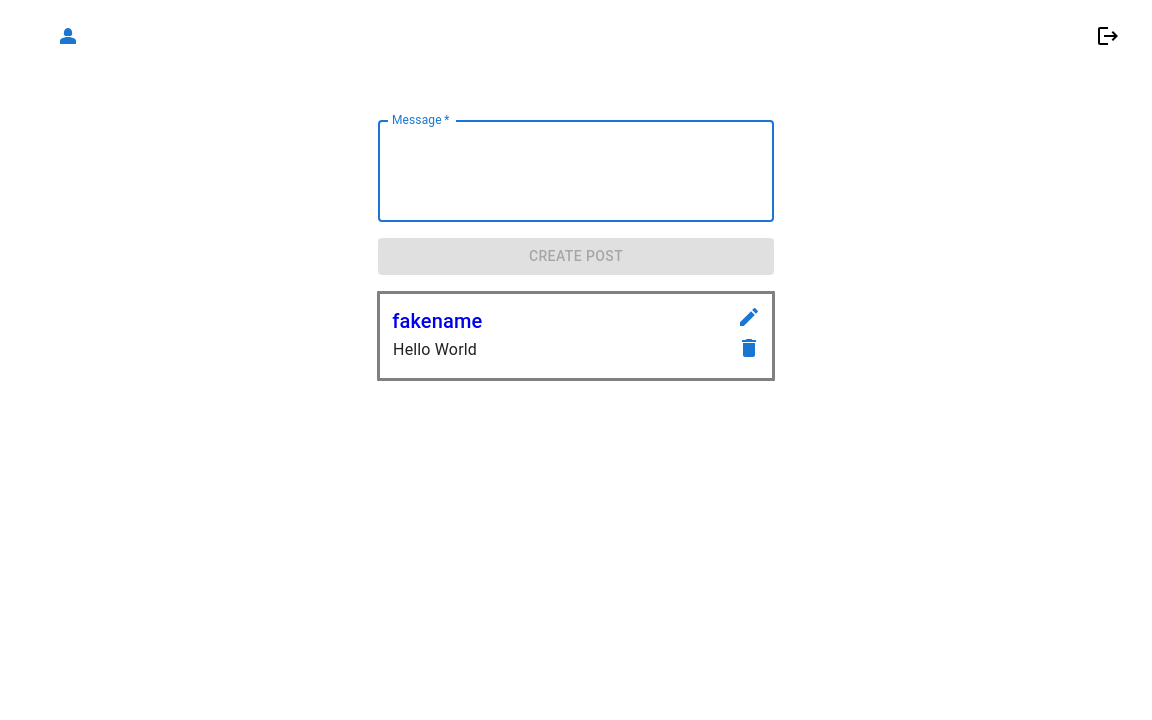
Test case: delete post modal › should display an error if deleting a post returns a rejected promise
What coordinates should you click on to do the following:
click the link named "delete-icon"
I would click on:
 (749, 354)
Its box is top-left (737, 344), bottom-right (761, 364).
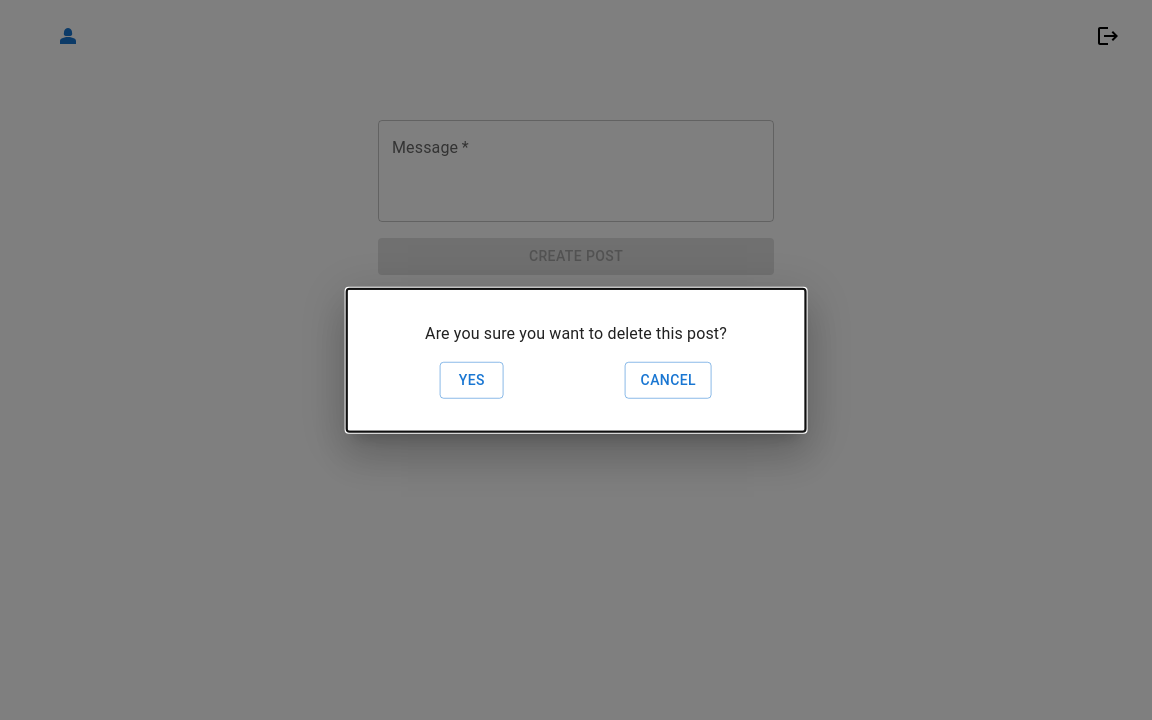
What coordinates should you click on to do the following:
click the button "Yes"
I would click on:
 (472, 380)
Its box is top-left (440, 362), bottom-right (504, 398).
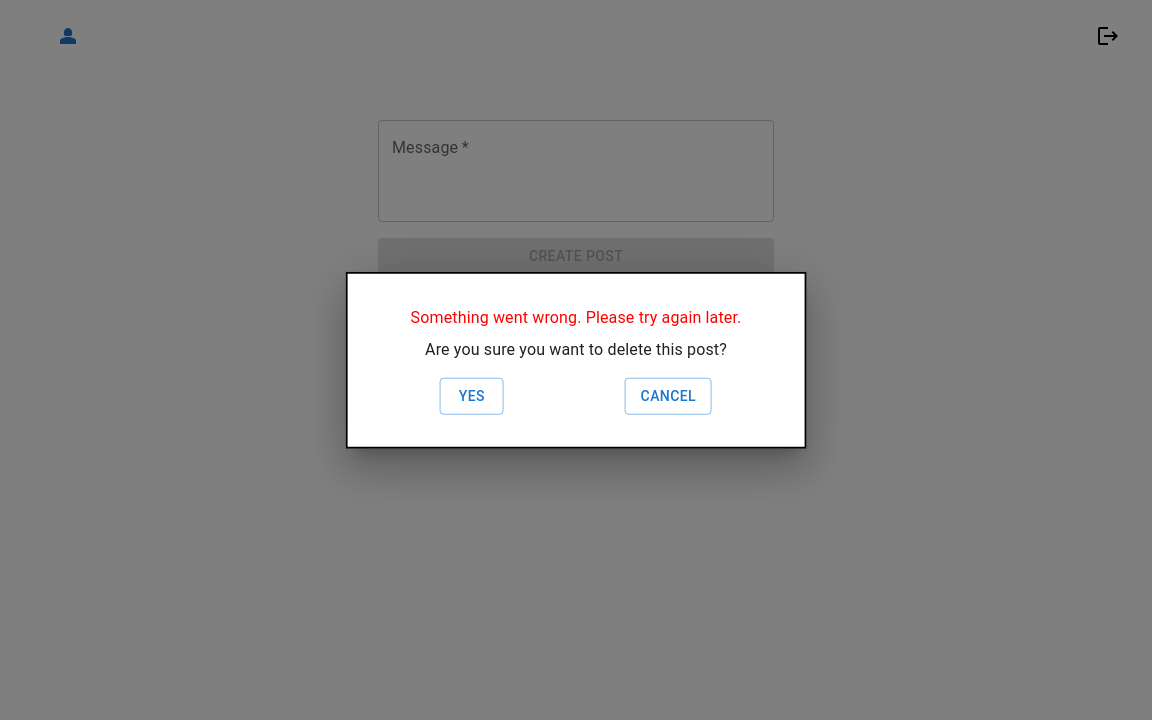
Now the text "Something went wrong. Please try again later." is shown, box top-left (411, 306), bottom-right (742, 330)
